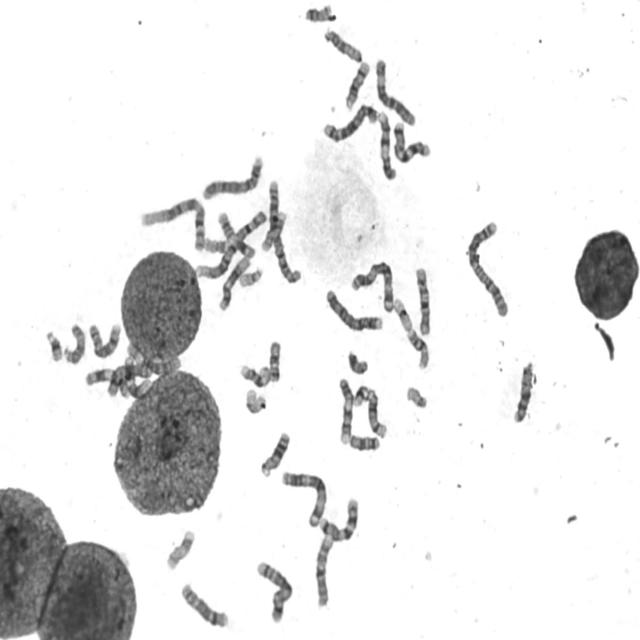A1: (193, 207, 268, 282), (137, 192, 208, 254)
A2: (464, 217, 512, 319), (265, 176, 303, 286)
A3: (278, 468, 329, 528), (348, 258, 396, 314)
B4: (200, 151, 265, 202), (324, 286, 384, 334)
B5: (253, 557, 295, 625), (320, 101, 380, 144)
C10: (312, 530, 335, 610), (412, 263, 433, 338)
C11: (214, 209, 256, 260), (83, 364, 131, 399)
C12: (216, 252, 251, 312), (119, 352, 153, 397)
C6: (372, 55, 418, 127), (125, 340, 182, 376)
C7: (317, 494, 360, 542), (391, 118, 432, 164)
C8: (178, 579, 230, 630), (86, 319, 122, 360)
C9: (376, 107, 398, 182), (335, 374, 354, 446)
D13: (510, 358, 536, 425), (258, 428, 291, 478)
D14: (343, 58, 371, 112), (365, 387, 389, 440)
D15: (321, 24, 364, 64), (61, 320, 87, 366)
E16: (404, 327, 430, 371), (237, 360, 272, 389)
E17: (164, 526, 196, 572), (257, 210, 289, 255)
E18: (347, 431, 381, 453), (267, 337, 282, 384)
F19: (392, 295, 414, 333), (243, 386, 268, 416)
F20: (302, 1, 334, 23), (202, 234, 230, 254)
G21: (42, 326, 64, 364), (351, 382, 370, 408)
G22: (237, 264, 264, 289), (404, 383, 428, 410)
X: (106, 364, 156, 400)
Y: (346, 346, 370, 376)
